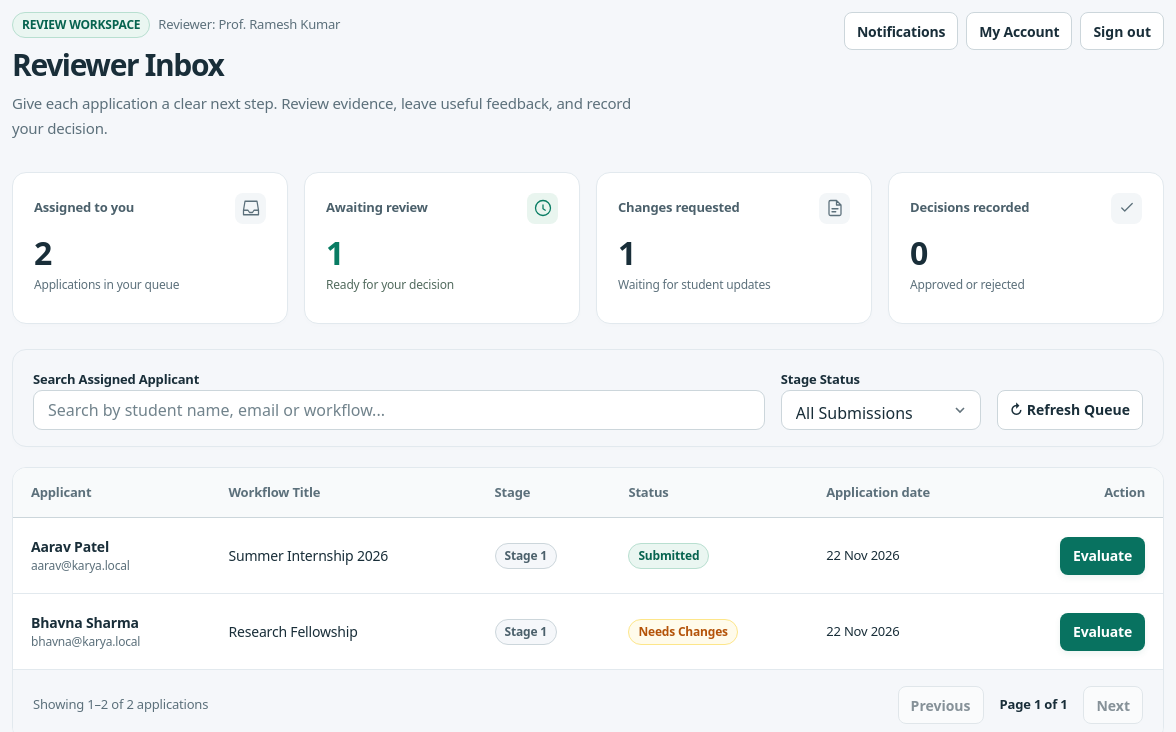
P-012 Reviewer Inbox Page and Elements (T-A11Y-P012, EL-086..EL-094) › filters review queue by search query and stage status (EL-087, EL-088)
Note: Search for 'Bhavna'
Type "Bhavna" into the search field with test id "EL-088" at [399, 410], box [33,390,765,430]
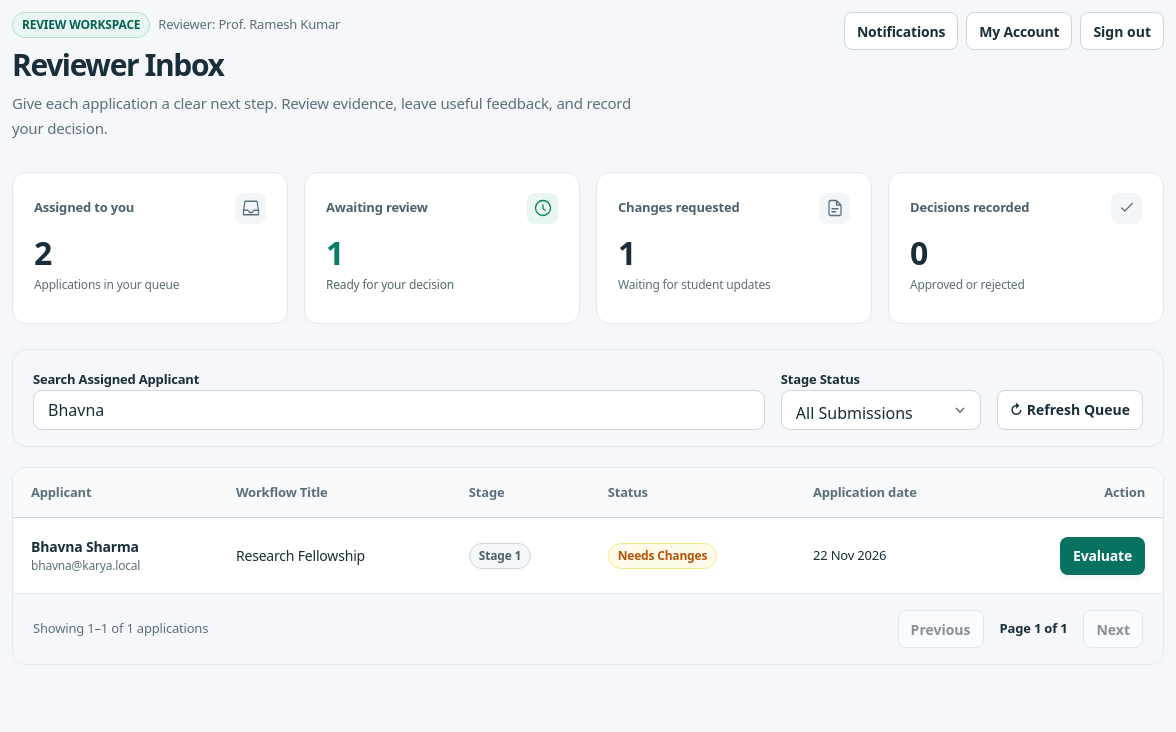
Check: the text "Bhavna Sharma" is shown, box [31,537,139,556]
Check: the text "Aarav Patel" is gone
Note: Clear search and filter by 'needs_changes'
Clear the search field with test id "EL-088" at [399, 410], box [33,390,765,430]
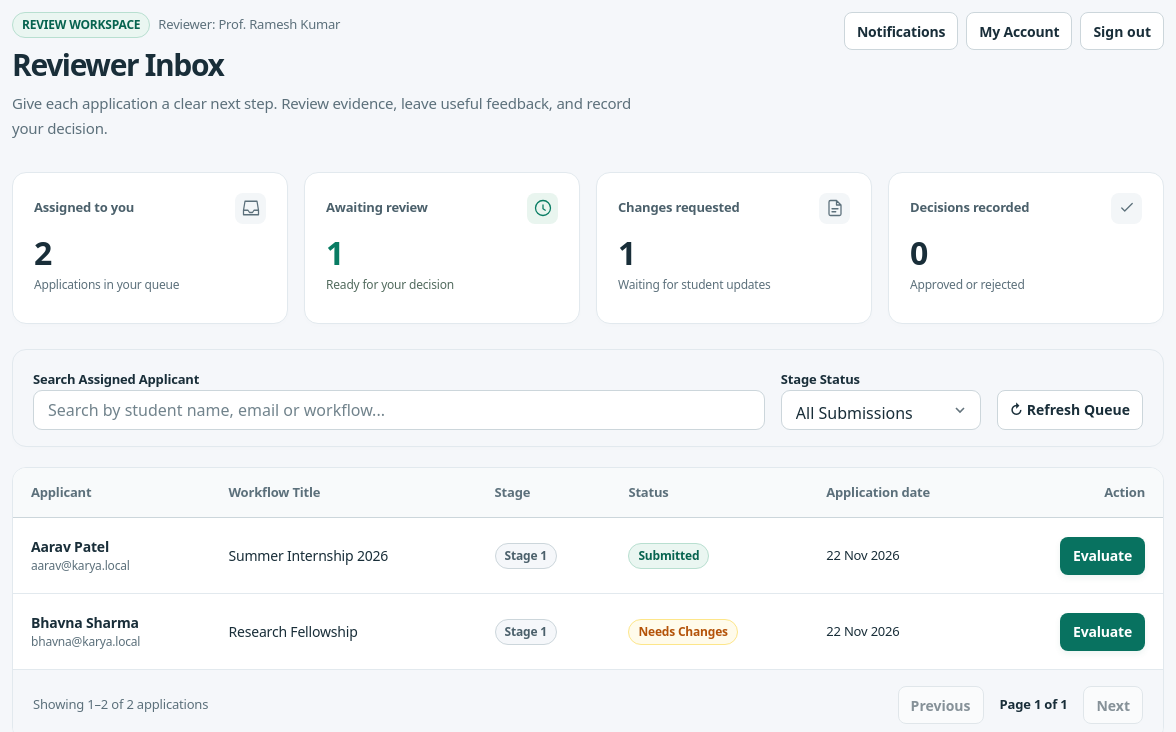
Select "Needs Changes" in the dropdown with test id "EL-087" at [881, 410], box [781,390,981,430]
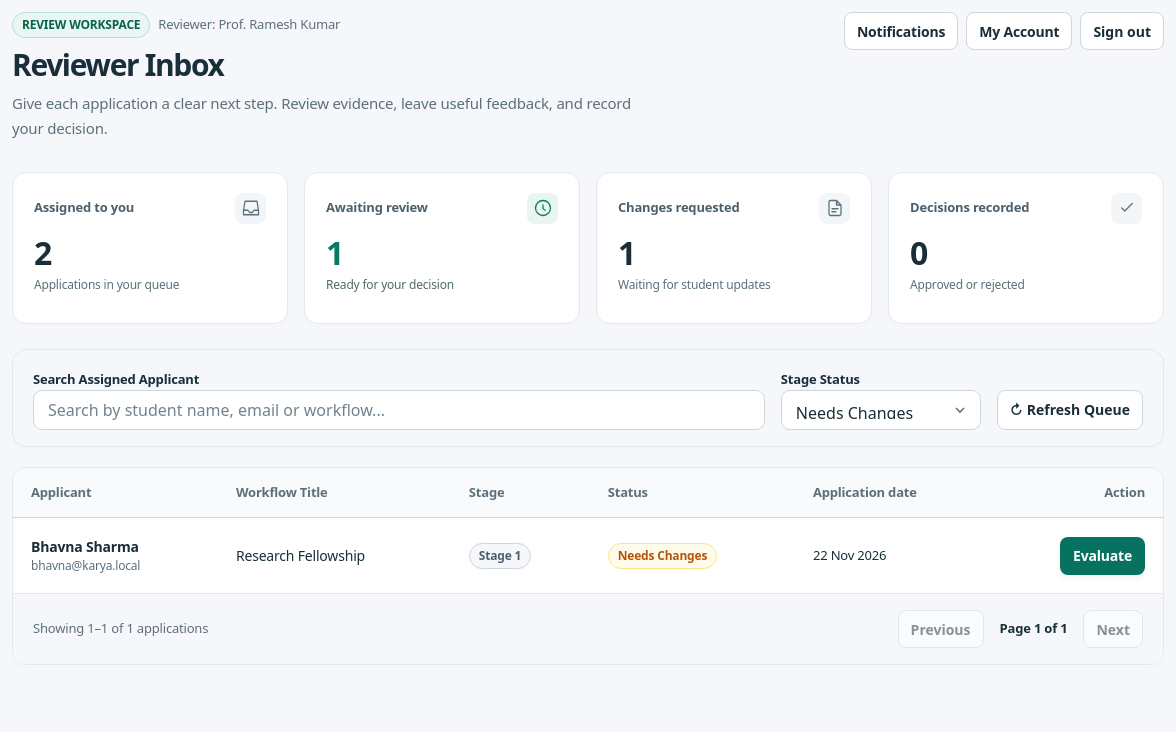
Check: the text "Bhavna Sharma" is shown, box [31,537,139,556]
Check: the text "Aarav Patel" is gone
